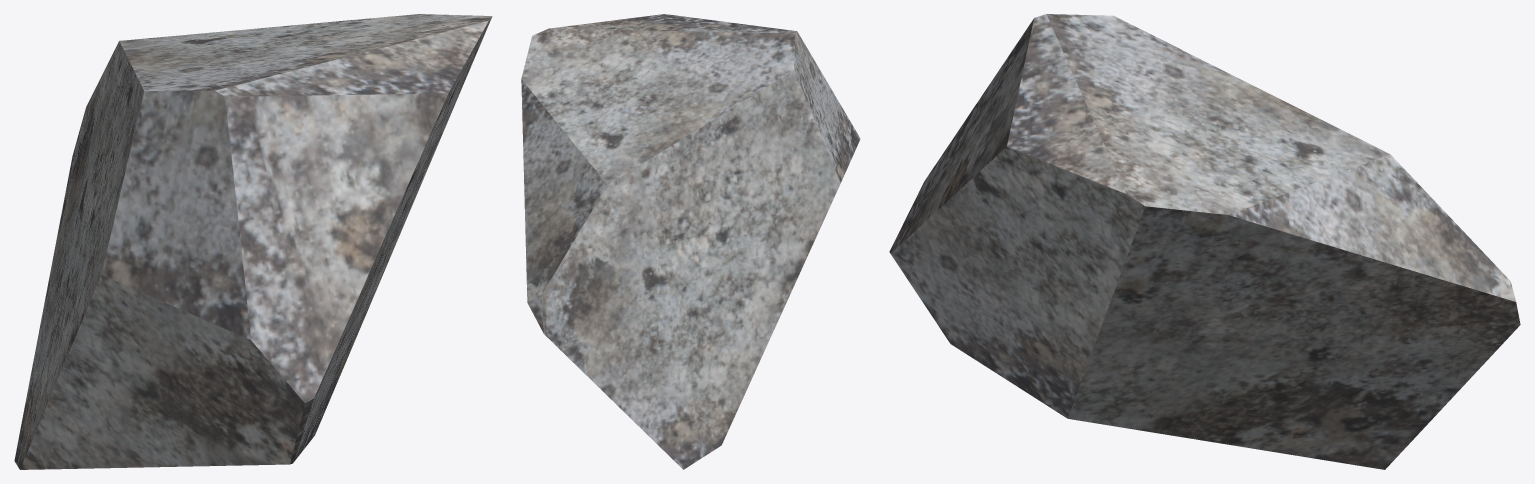
Rendered from Asteroid_Large_001_02_012_03_010.fbx.
3 views of the same model, side by side, from view 1: azimuth 30°, elevation 25°; view 2: azimuth 150°, elevation 25°; view 3: azimuth 270°, elevation 25° (orthographic). The views are drawn at different scales.
Visible parts, largest first — view 1: Asteroid_Large_001_02_012_03_010; view 2: Asteroid_Large_001_02_012_03_010; view 3: Asteroid_Large_001_02_012_03_010.
Part boxes in pixels (left/top/right/bottom): Asteroid_Large_001_02_012_03_010: left=14, top=14, right=492, bottom=469; Asteroid_Large_001_02_012_03_010: left=521, top=14, right=860, bottom=469; Asteroid_Large_001_02_012_03_010: left=889, top=14, right=1520, bottom=469.
Bounding box in the file's own units: 8.66 × 9.81 × 12.09.
